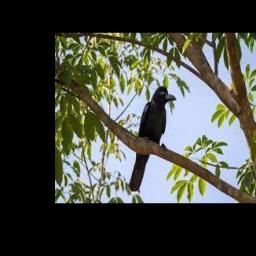Crow: (130, 86, 175, 192)
